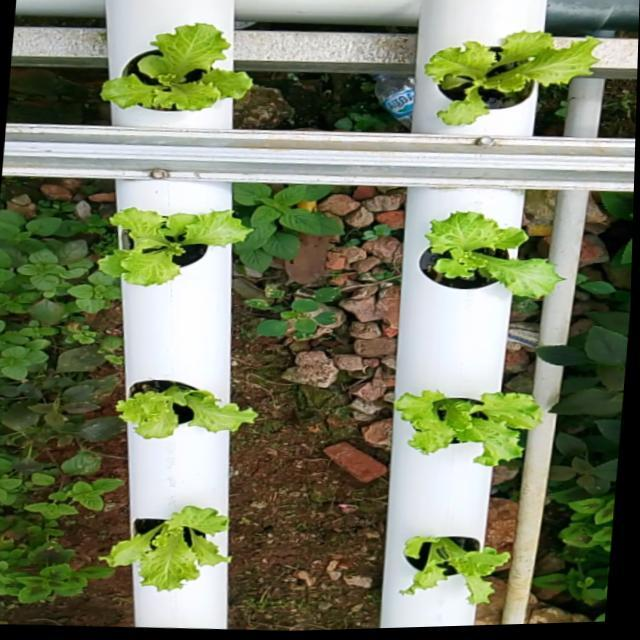Baby: (426, 34, 603, 128), (100, 22, 253, 127), (415, 208, 560, 295), (98, 207, 255, 286), (390, 388, 540, 463), (97, 502, 228, 587), (112, 376, 255, 436), (397, 532, 507, 599)
